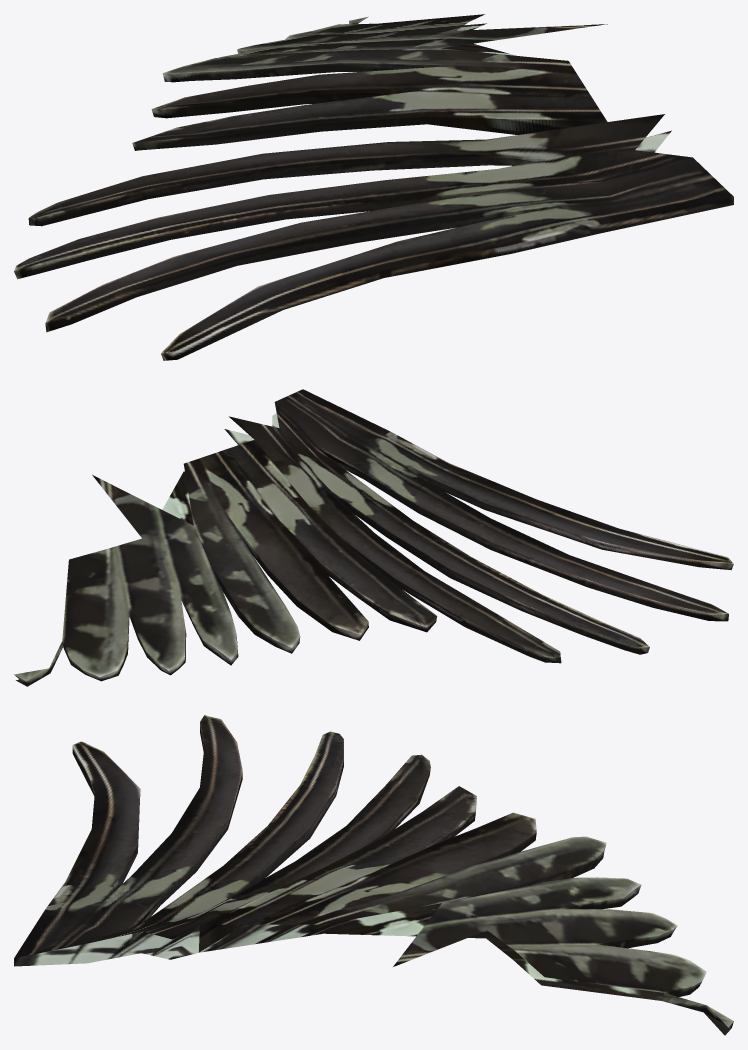
File: Woodpecker_L_out.gltf
The picture shows the model from 3 angles, top to bottom: view 1: azimuth 30°, elevation 25°; view 2: azimuth 150°, elevation 25°; view 3: azimuth 270°, elevation 25°; orthographic projection. The views are drawn at different scales.
Parts seen in each view (by area): view 1: Woodpecker_L_out; view 2: Woodpecker_L_out; view 3: Woodpecker_L_out.
Part boxes in pixels (box(x1,y1,x2,y2)): Woodpecker_L_out: box(14, 14, 733, 360); Woodpecker_L_out: box(14, 389, 733, 686); Woodpecker_L_out: box(14, 715, 733, 1035).
Bounding box in the file's own units: 0.0833 × 0.0134 × 0.078.
Materials: 1 (1 with a texture image).
